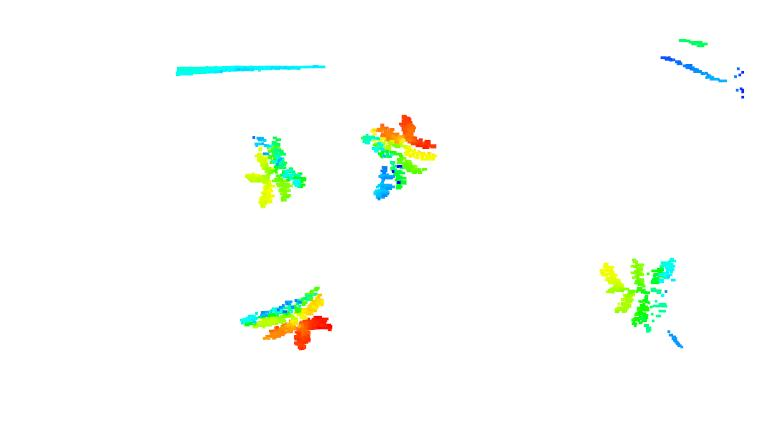chickpea: (360, 113, 441, 202), (236, 284, 338, 353), (597, 256, 679, 334), (243, 132, 309, 211)
